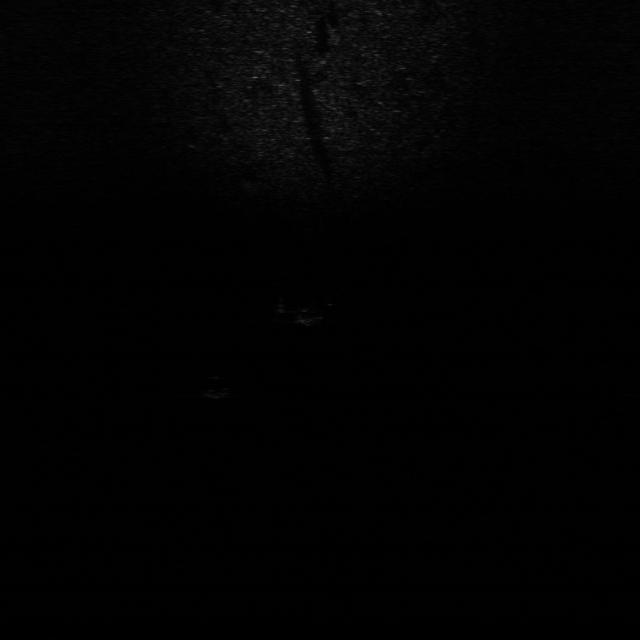ball: (196, 370, 236, 402)
human body: (278, 295, 334, 328)
